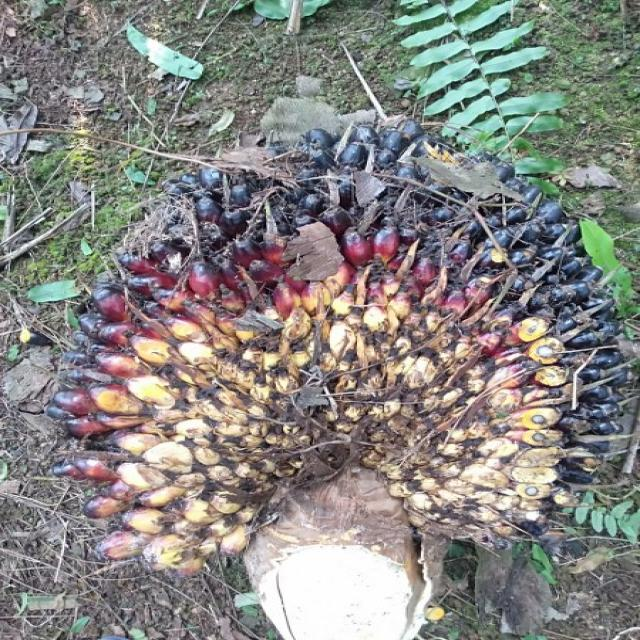fraksi 00: (18, 107, 640, 593)
